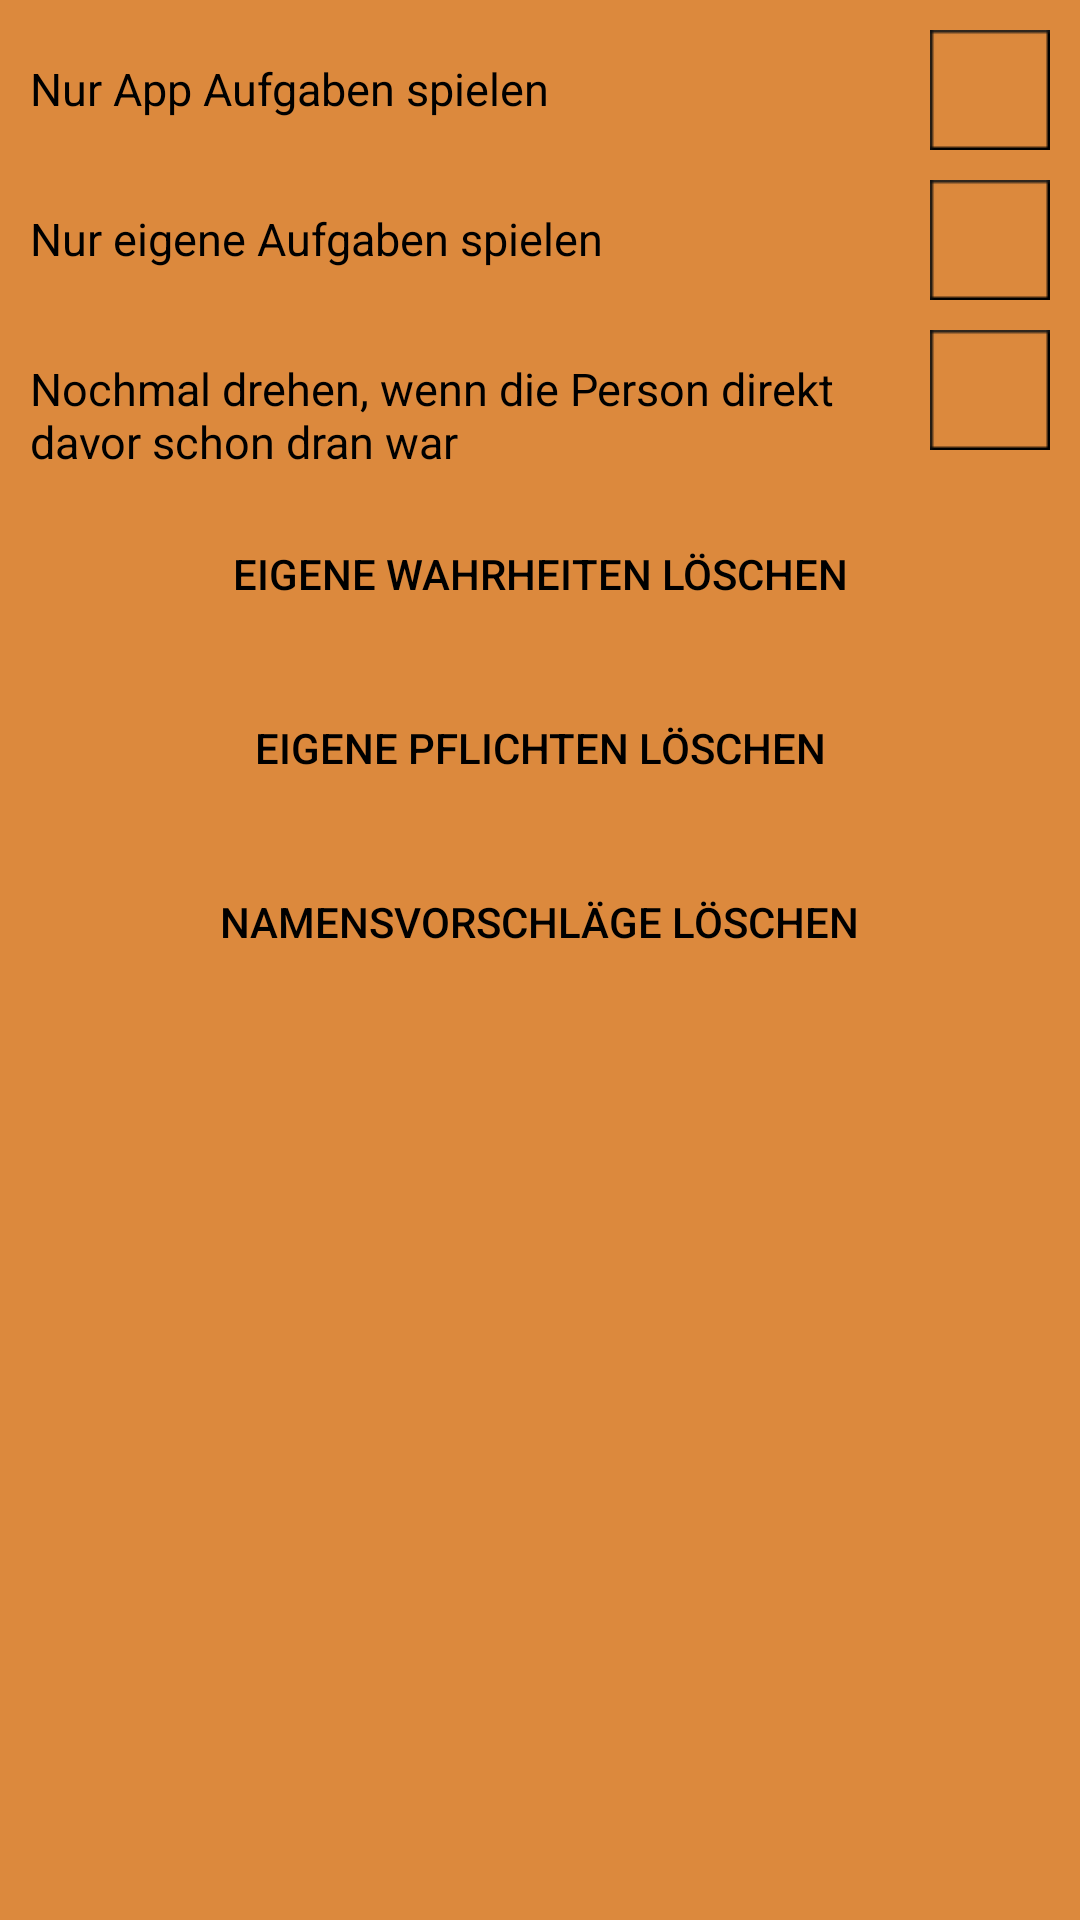

Icon click points for this 1080w x 1920h phone screenshot, format (x=x, y=y):
checkbox: (x=990, y=90), (x=990, y=240), (x=990, y=390)
